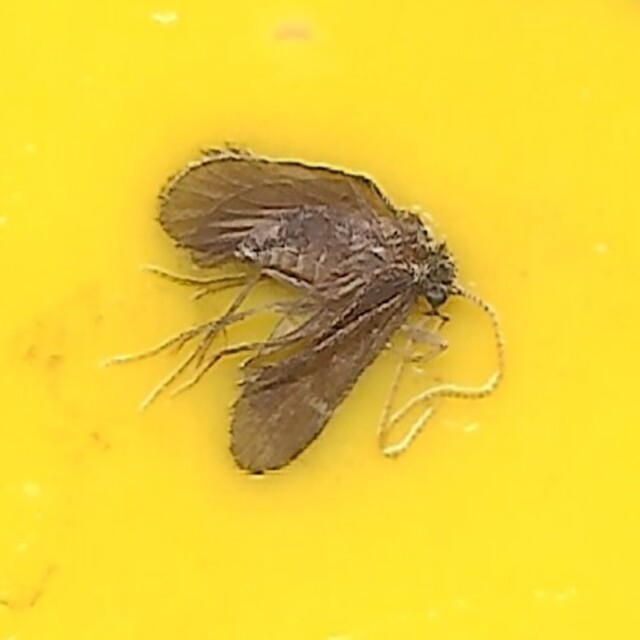Trichoptera: (126, 152, 514, 488)
